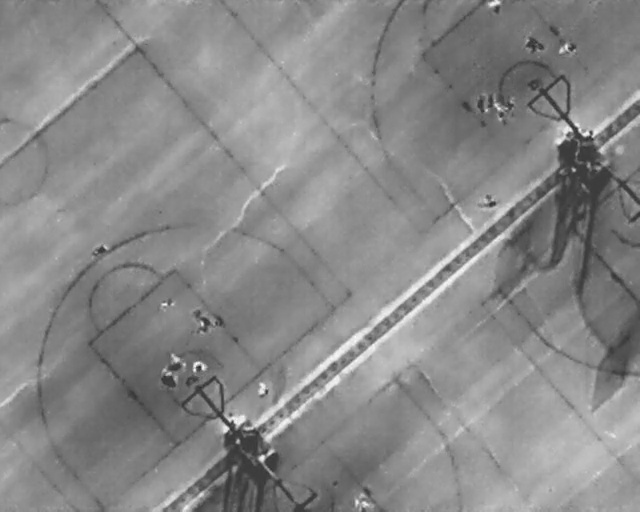Person: (491, 91, 506, 121), (158, 369, 178, 391), (524, 33, 543, 56), (167, 351, 187, 372), (195, 309, 211, 335), (355, 487, 371, 511), (561, 37, 576, 59), (481, 193, 497, 212), (158, 295, 175, 310), (476, 90, 487, 113), (506, 96, 518, 117), (487, 0, 502, 16), (256, 380, 268, 399), (192, 360, 209, 373)
